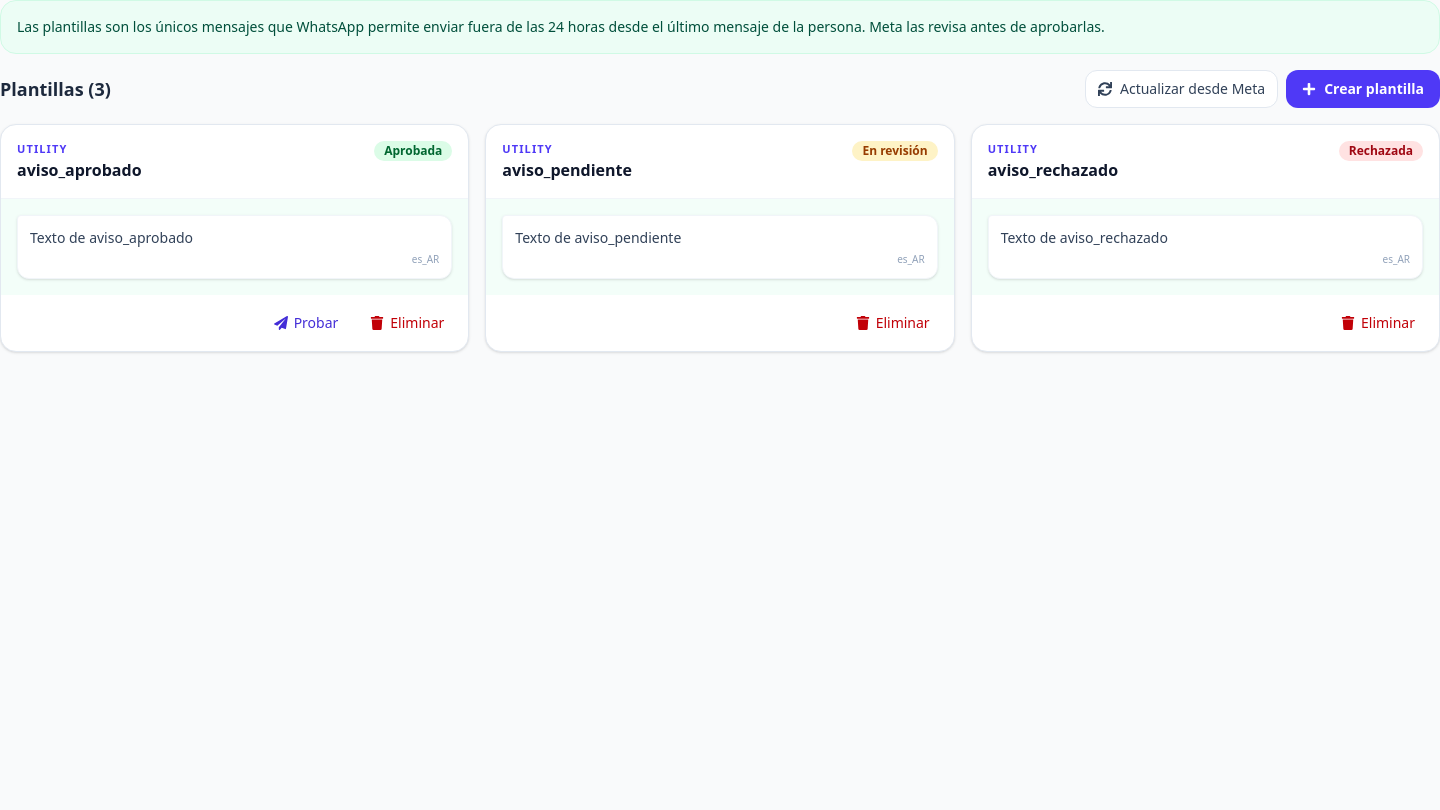
Test case: TemplatesTab (Plantillas de WhatsApp) › warns that the test is a real message and does not send without a number
This screenshot has width=1440, height=810.
Check: the element "aviso_aprobado" is shown, box [0,124,469,352]
Click the button with aria-label "Enviar prueba de aviso_aprobado " at (306, 323), box [262,307,350,339]
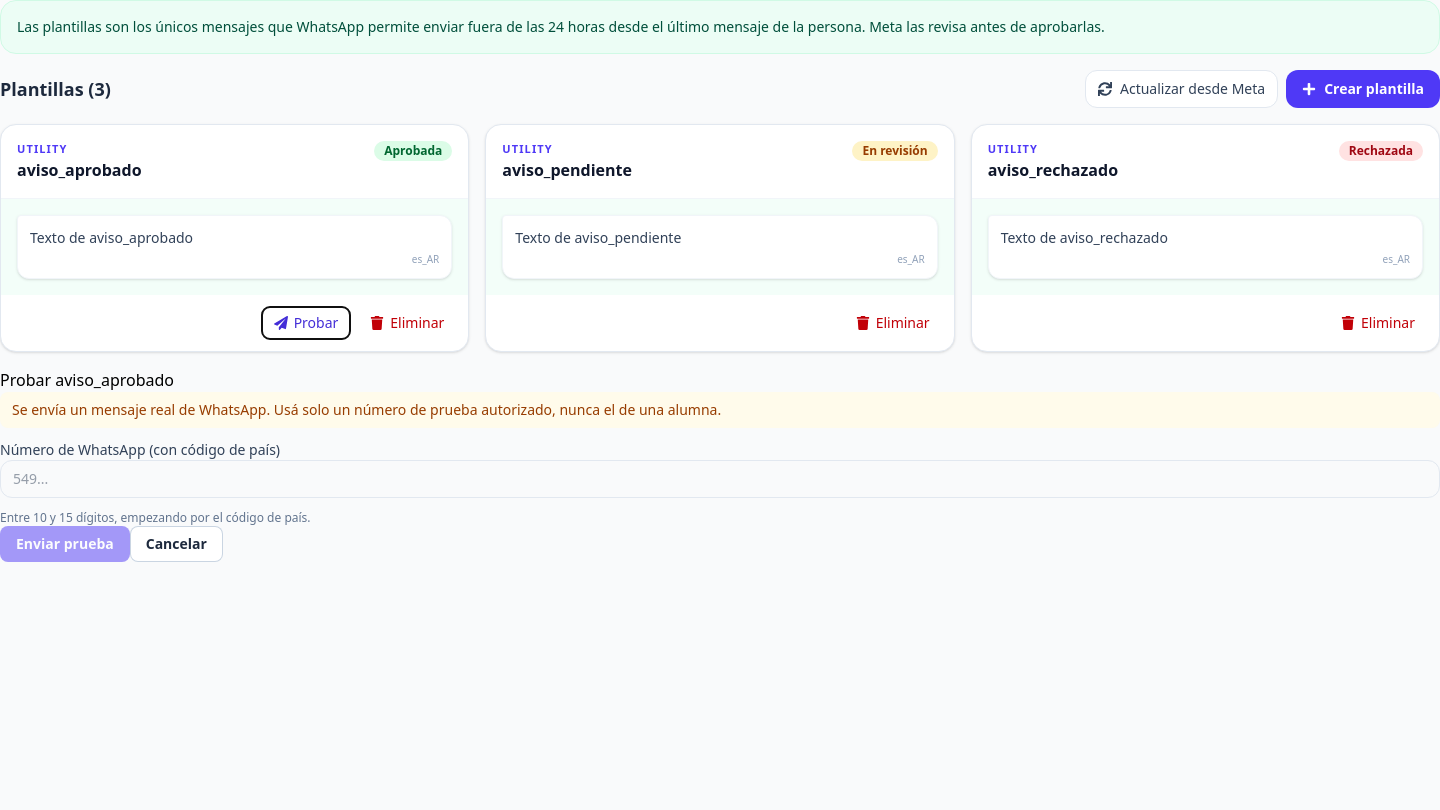
Check: the text "Se envía un mensaje real" is shown, box [12,400,721,419]
Check: the button "Enviar prueba" is disabled, box [0,526,130,562]
